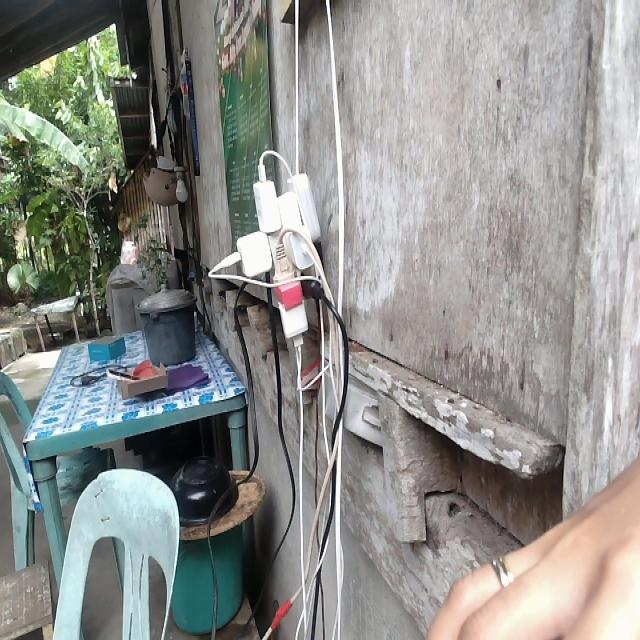-: (206, 147, 344, 353)
